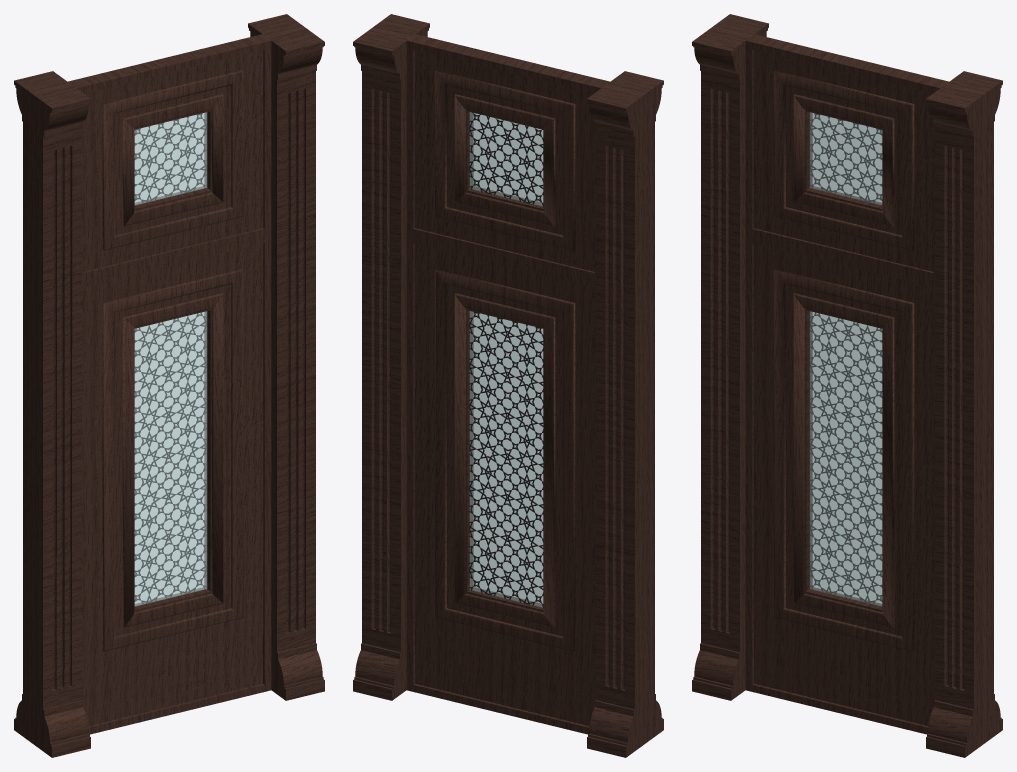
The model's file is door.FBX.
The picture shows the model from 3 angles, left to right: view 1: azimuth 30°, elevation 25°; view 2: azimuth 150°, elevation 25°; view 3: azimuth 330°, elevation 25°; orthographic projection.
Parts seen in each view (by area): view 1: Rectangle022, Shape008, Box382, Rectangle015, Layer:050; view 2: Rectangle022, Shape008, Box382, Rectangle015, Layer:050; view 3: Rectangle022, Shape008, Box382, Rectangle015, Layer:050.
Part boxes in pixels (<box>): Rectangle022: <box>83,50,263,726</box>; Shape008: <box>14,14,324,757</box>; Box382: <box>134,112,207,606</box>; Rectangle015: <box>68,34,271,734</box>; Layer:050: <box>134,113,206,604</box>; Rectangle022: <box>414,50,594,726</box>; Shape008: <box>353,14,663,757</box>; Box382: <box>469,112,543,607</box>; Rectangle015: <box>406,34,609,734</box>; Layer:050: <box>469,112,543,607</box>; Rectangle022: <box>753,50,933,726</box>; Shape008: <box>692,14,1002,757</box>; Box382: <box>809,112,882,606</box>; Rectangle015: <box>745,34,948,734</box>; Layer:050: <box>810,113,882,604</box>.
Size of the model in its own units: 140 by 319 by 33.78.
Materials: 3 (1 with a texture image).
